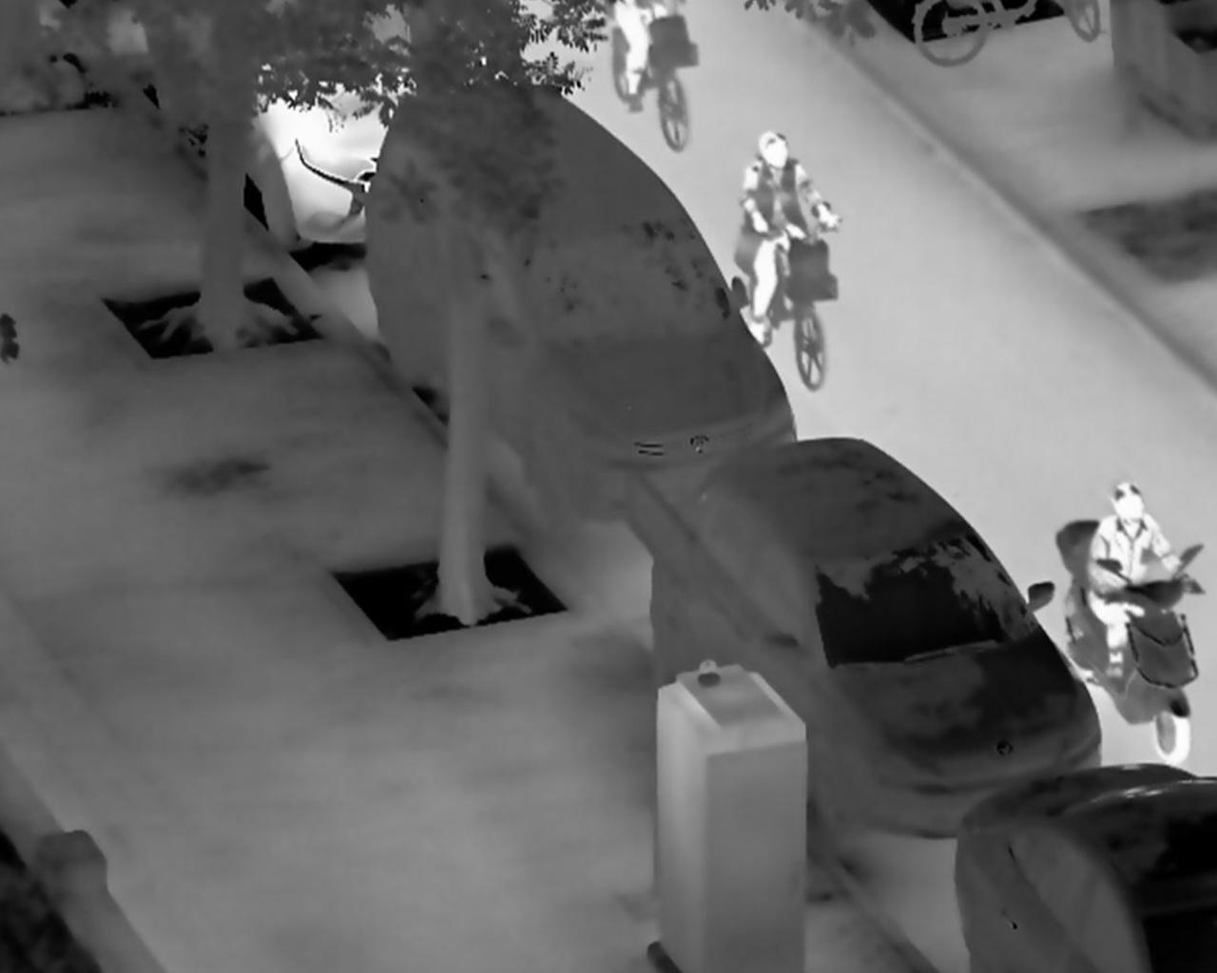person: (738, 127, 840, 350), (1083, 483, 1193, 685)
